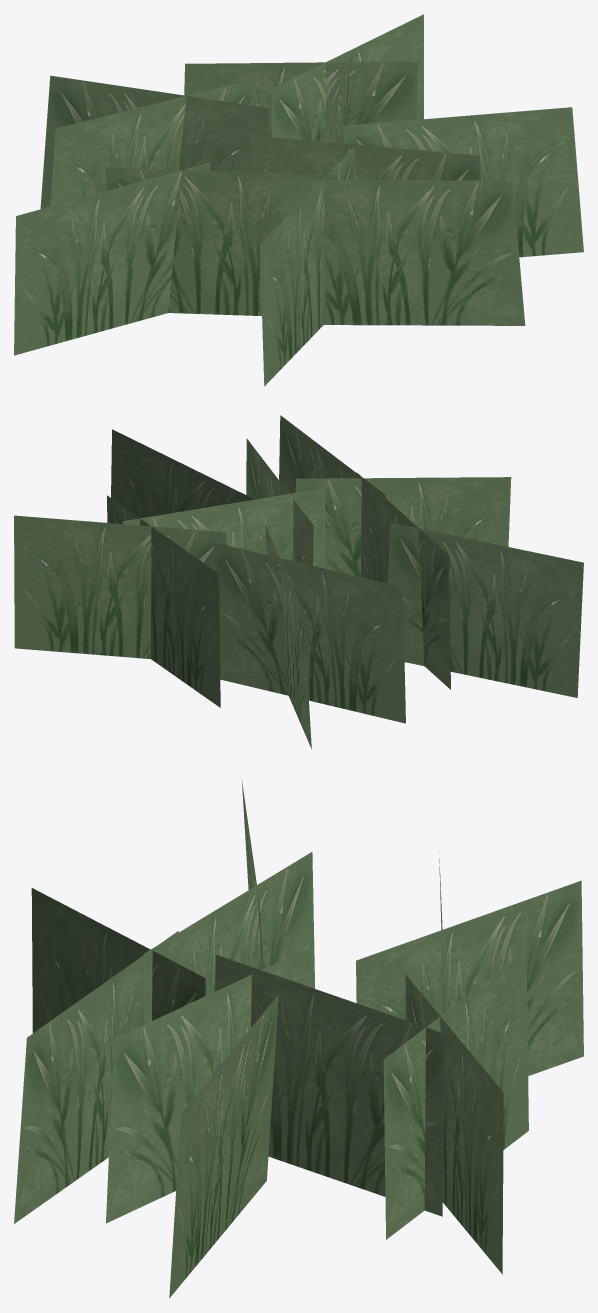
Rendered from cao1.fbx.
The picture shows the model from 3 angles, top to bottom: view 1: azimuth 30°, elevation 25°; view 2: azimuth 150°, elevation 25°; view 3: azimuth 270°, elevation 25°; orthographic projection. The views are drawn at different scales.
Visible parts, largest first — view 1: cao1; view 2: cao1; view 3: cao1.
Boxes of the visible parts, x1,y1,x2,y2 form: cao1: (14, 14, 583, 386); cao1: (14, 415, 583, 749); cao1: (14, 779, 583, 1297).
Size of the model in its own units: 581 by 158 by 419.
1 material, 1 textured.
